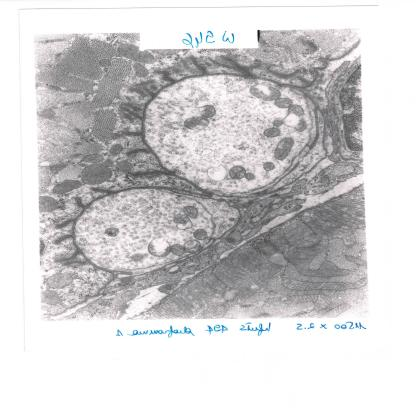mitochondria: (81, 164, 113, 186), (52, 179, 84, 195), (46, 271, 74, 289), (248, 86, 283, 100), (148, 236, 171, 257), (274, 138, 294, 160), (192, 104, 218, 118), (173, 214, 194, 231), (184, 117, 209, 131), (41, 290, 64, 305), (80, 153, 106, 165), (228, 165, 247, 180), (261, 128, 283, 139), (286, 104, 306, 116), (115, 160, 134, 172), (134, 63, 149, 78), (182, 206, 200, 218), (184, 240, 202, 252), (108, 143, 124, 156), (193, 228, 210, 240), (273, 98, 293, 108), (170, 244, 186, 256), (98, 57, 112, 68), (263, 162, 277, 172), (271, 118, 285, 127), (103, 159, 117, 167), (244, 172, 256, 181), (132, 254, 142, 261)
